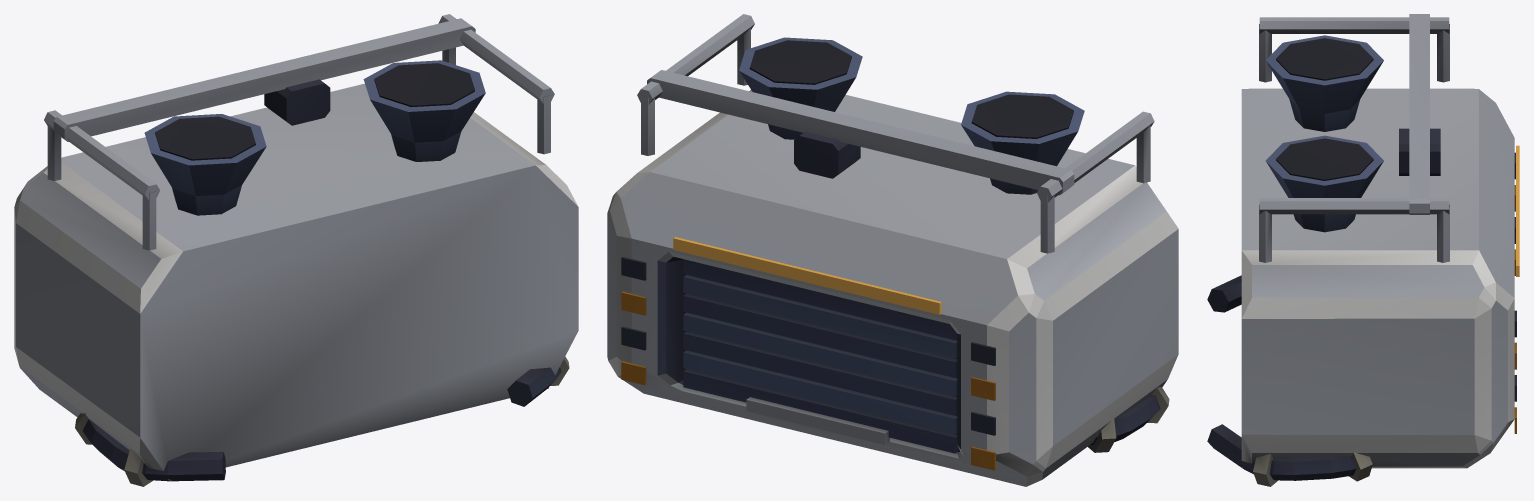
File: pack-replica.glb
3 renders of one model, left to right at view 1: azimuth 30°, elevation 25°; view 2: azimuth 150°, elevation 25°; view 3: azimuth 270°, elevation 25°, orthographic. The views are drawn at different scales.
Parts seen in each view (by area): view 1: Body; view 2: Body, Glow; view 3: Body, Glow.
Boxes of the visible parts, box(x1,y1,x2,y2) form: Body: box(14, 14, 578, 486); Body: box(607, 14, 1178, 486); Glow: box(673, 237, 941, 314); Body: box(1207, 14, 1516, 486); Glow: box(1516, 145, 1519, 276).
Bounding box in the file's own units: 1.62 × 1.05 × 1.05.
